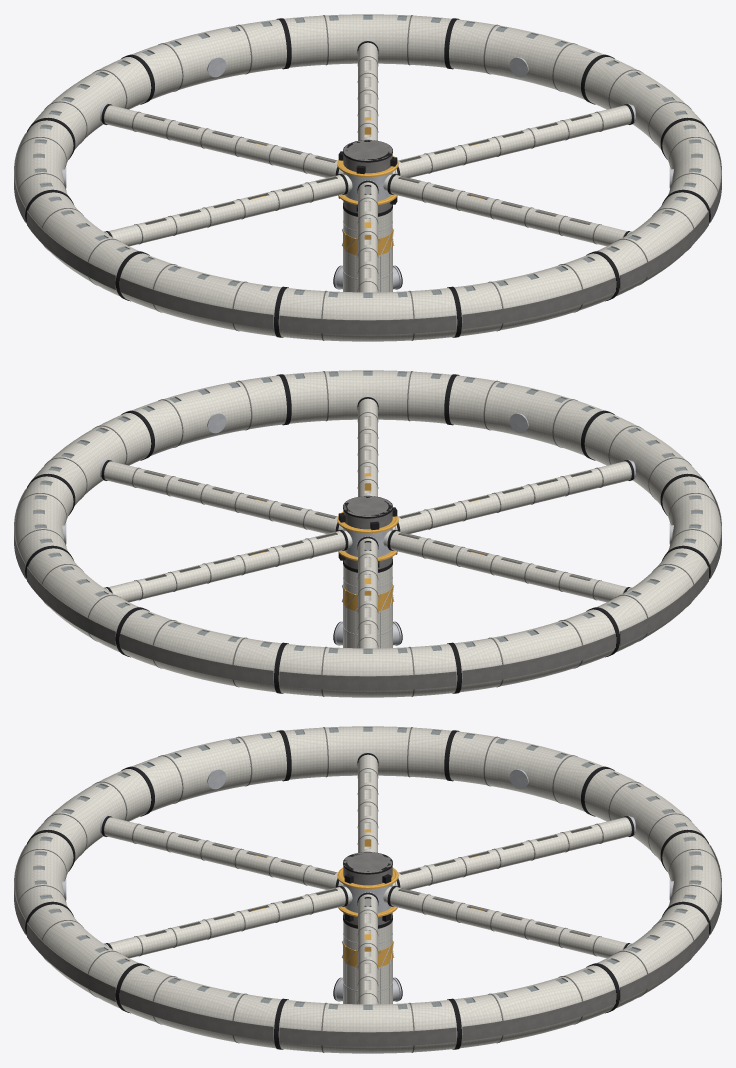
Rendered from gravity_ring_assembly.glb.
3 views of the same model, one above another, from view 1: azimuth 30°, elevation 25°; view 2: azimuth 150°, elevation 25°; view 3: azimuth 270°, elevation 25° (orthographic).
Visible parts, largest first — view 1: segment_3_segment_hull, segment_2_segment_hull, segment_4_segment_hull, segment_9_segment_hull, segment_8_segment_hull, segment_10_segment_hull, spoke_1_tube_shell, spoke_3_tube_shell, spoke_4_tube_shell, spoke_6_tube_shell, segment_5_segment_hull, segment_1_segment_hull (+15 smaller); view 2: segment_11_segment_hull, segment_10_segment_hull, segment_12_segment_hull, segment_5_segment_hull, segment_4_segment_hull, segment_6_segment_hull, spoke_1_tube_shell, spoke_5_tube_shell, spoke_2_tube_shell, spoke_4_tube_shell, segment_1_segment_hull, segment_9_segment_hull (+15 smaller); view 3: segment_7_segment_hull, segment_6_segment_hull, segment_8_segment_hull, segment_1_segment_hull, segment_2_segment_hull, segment_12_segment_hull, spoke_3_tube_shell, spoke_5_tube_shell, spoke_2_tube_shell, spoke_6_tube_shell, segment_9_segment_hull, segment_5_segment_hull (+15 smaller).
Boxes of the visible parts, left/top/right/bottom form: segment_3_segment_hull: left=284, top=14, right=451, bottom=67; segment_2_segment_hull: left=449, top=19, right=603, bottom=99; segment_4_segment_hull: left=132, top=19, right=286, bottom=99; segment_9_segment_hull: left=278, top=288, right=457, bottom=341; segment_8_segment_hull: left=119, top=253, right=281, bottom=336; segment_10_segment_hull: left=454, top=253, right=616, bottom=336; spoke_1_tube_shell: left=398, top=105, right=631, bottom=177; spoke_3_tube_shell: left=104, top=105, right=337, bottom=177; spoke_4_tube_shell: left=108, top=175, right=345, bottom=246; spoke_6_tube_shell: left=390, top=175, right=627, bottom=246; segment_5_segment_hull: left=34, top=57, right=151, bottom=149; segment_1_segment_hull: left=584, top=57, right=701, bottom=149; segment_11_segment_hull: left=284, top=370, right=451, bottom=423; segment_10_segment_hull: left=449, top=375, right=603, bottom=455; segment_12_segment_hull: left=132, top=375, right=286, bottom=455; segment_5_segment_hull: left=278, top=644, right=457, bottom=697; segment_4_segment_hull: left=119, top=609, right=281, bottom=692; segment_6_segment_hull: left=454, top=609, right=616, bottom=692; spoke_1_tube_shell: left=104, top=461, right=337, bottom=533; spoke_5_tube_shell: left=398, top=461, right=631, bottom=533; spoke_2_tube_shell: left=108, top=531, right=345, bottom=602; spoke_4_tube_shell: left=390, top=531, right=627, bottom=602; segment_1_segment_hull: left=34, top=413, right=151, bottom=505; segment_9_segment_hull: left=584, top=413, right=701, bottom=505; segment_7_segment_hull: left=284, top=726, right=451, bottom=779; segment_6_segment_hull: left=449, top=731, right=603, bottom=811; segment_8_segment_hull: left=132, top=731, right=286, bottom=811; segment_1_segment_hull: left=278, top=1000, right=457, bottom=1053; segment_2_segment_hull: left=454, top=965, right=616, bottom=1048; segment_12_segment_hull: left=119, top=965, right=281, bottom=1048; spoke_3_tube_shell: left=398, top=817, right=631, bottom=889; spoke_5_tube_shell: left=104, top=817, right=337, bottom=889; spoke_2_tube_shell: left=390, top=887, right=627, bottom=958; spoke_6_tube_shell: left=108, top=887, right=345, bottom=958; segment_9_segment_hull: left=34, top=769, right=151, bottom=861; segment_5_segment_hull: left=584, top=769, right=701, bottom=861.
Size of the model in its own units: 53.81 by 13.6 by 53.81.
7 materials, 4 textured.
